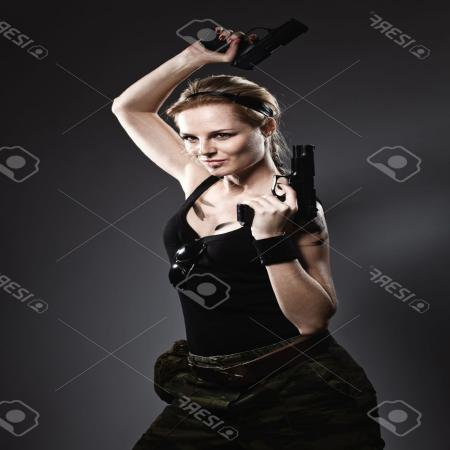Pistol: (234, 143, 320, 227), (195, 12, 311, 70)
